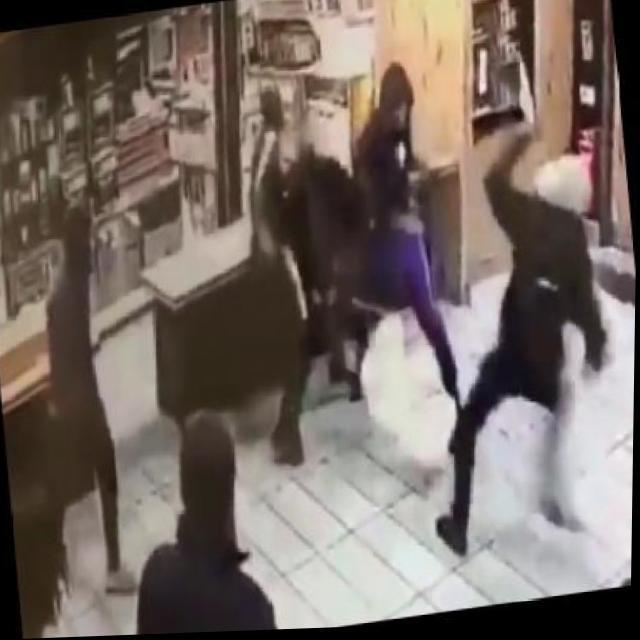fight: (269, 65, 459, 428)
